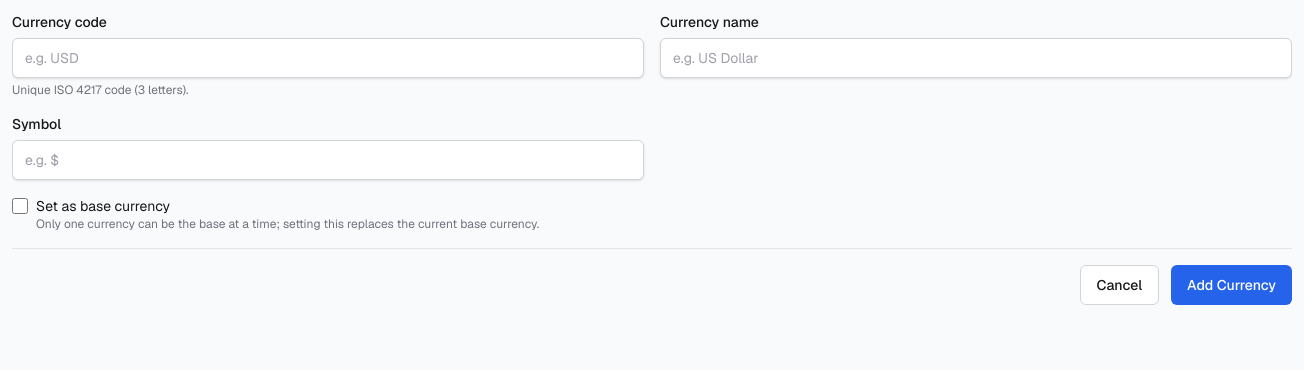
Test case: CurrencyForm › shows a validation error and does not submit when required fields are missing
Click the button "Add Currency" at (1232, 285), box [1171,265,1292,305]
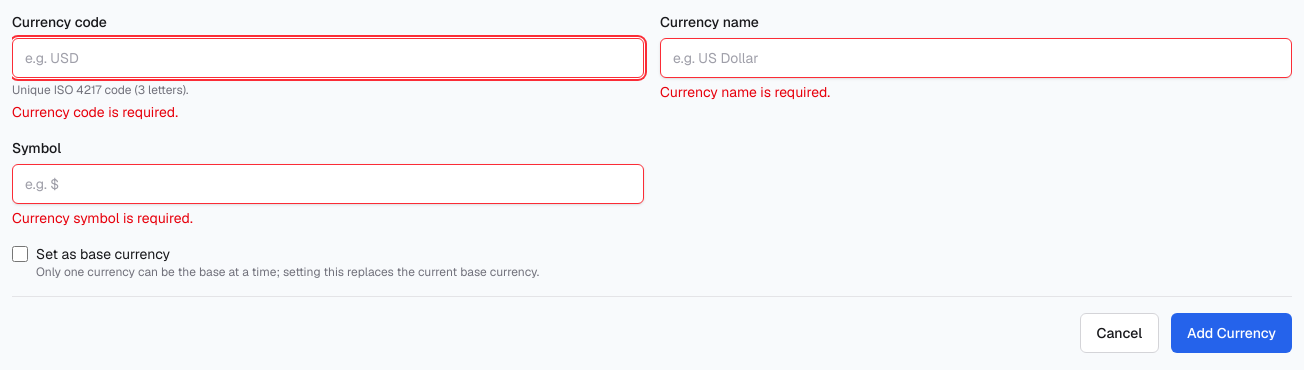
Expected: the text "Currency code is required." is shown, [12,103,178,121]
